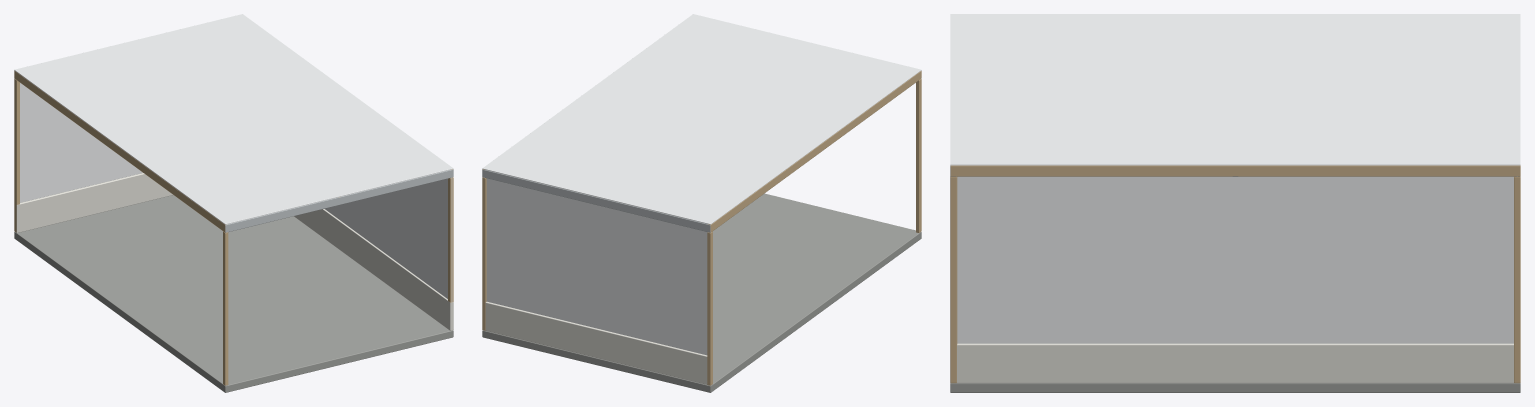
File: candlemaking-and-soap-workshop-covered-cooling-bay-ff965e0d__30647.glb
3 renders of one model, left to right at view 1: azimuth 30°, elevation 25°; view 2: azimuth 150°, elevation 25°; view 3: azimuth 270°, elevation 25°, orthographic. The views are drawn at different scales.
Parts seen in each view (by area): view 1: covered-cooling-bay; view 2: covered-cooling-bay; view 3: covered-cooling-bay.
Part boxes in pixels (box(x1,y1,x2,y2)): covered-cooling-bay: box(14, 14, 453, 392); covered-cooling-bay: box(482, 14, 921, 392); covered-cooling-bay: box(950, 14, 1520, 392).
Size of the model in its own units: 5 by 3.54 by 8.
